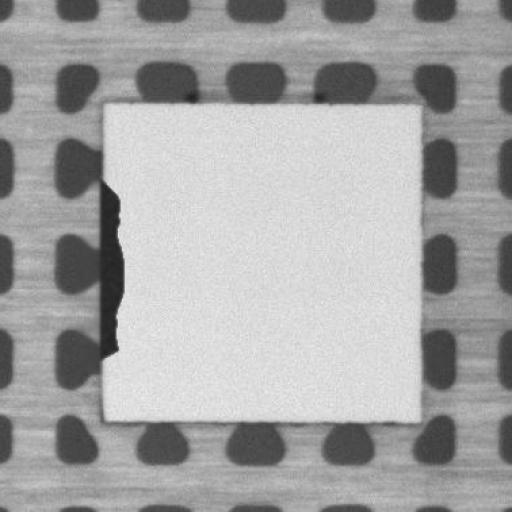DIE_BROKEN: (94, 180, 126, 369)
